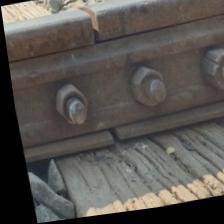person: (52, 0, 130, 61), (85, 115, 134, 158)
